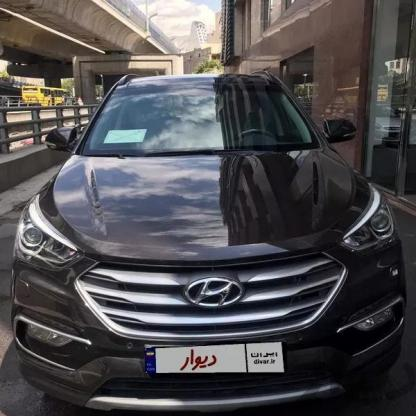Car: (0, 69, 410, 415)
